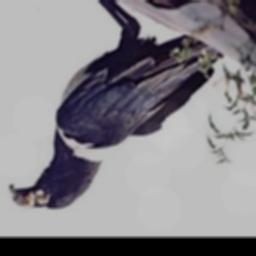Crow: (6, 0, 232, 211)
